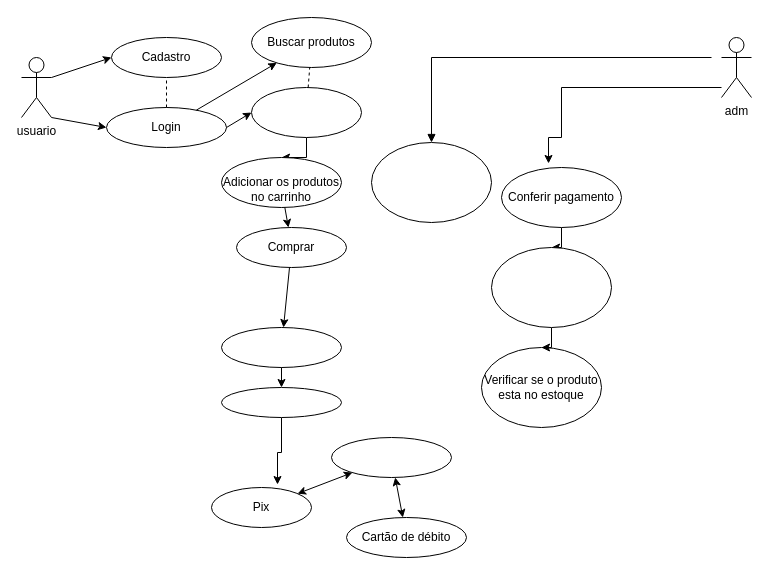
This 769x575 diagram has some shape labels left out. The shapes that lost their labels are listed below. From the top down, each one's centre as x and y in pixels, then its label:
point 306,112: Descobrir produtos
point 431,182: definir forma de pagamento
point 551,287: Liberar produto para entrega
point 281,347: Formas de pagamento
point 281,402: Pagar
point 391,457: Cartão de crédito
